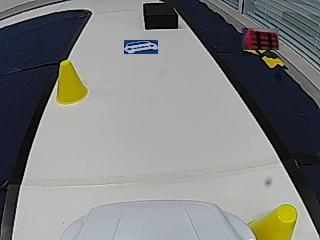block: (142, 2, 178, 29)
cone: (57, 60, 89, 104), (257, 205, 298, 239)
